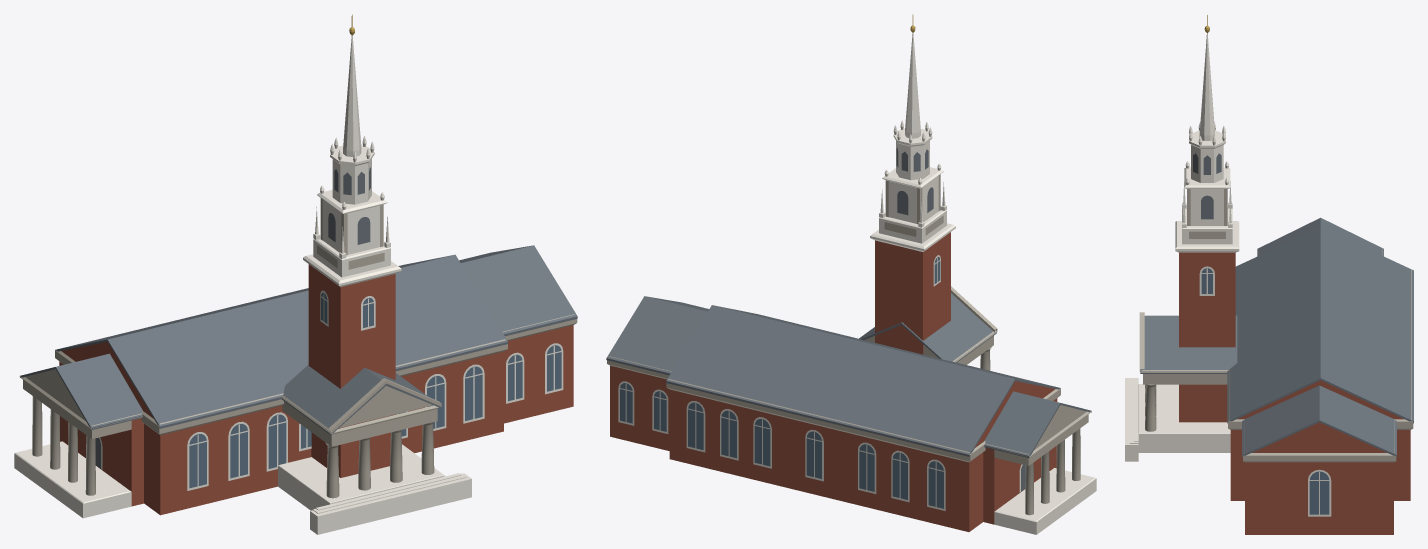
The model's file is bos-harvard-memorial-church.glb.
3 renders of one model, left to right at view 1: azimuth 30°, elevation 25°; view 2: azimuth 150°, elevation 25°; view 3: azimuth 270°, elevation 25°, orthographic. The views are drawn at different scales.
Parts seen in each view (by area): view 1: Memorial Church; view 2: Memorial Church; view 3: Memorial Church.
Part boxes in pixels (<box>): Memorial Church: <box>14,14,577,534</box>; Memorial Church: <box>606,15,1096,534</box>; Memorial Church: <box>1125,15,1413,534</box>.
Bounding box in the file's own units: 65.9 × 60.7 × 38.25.
